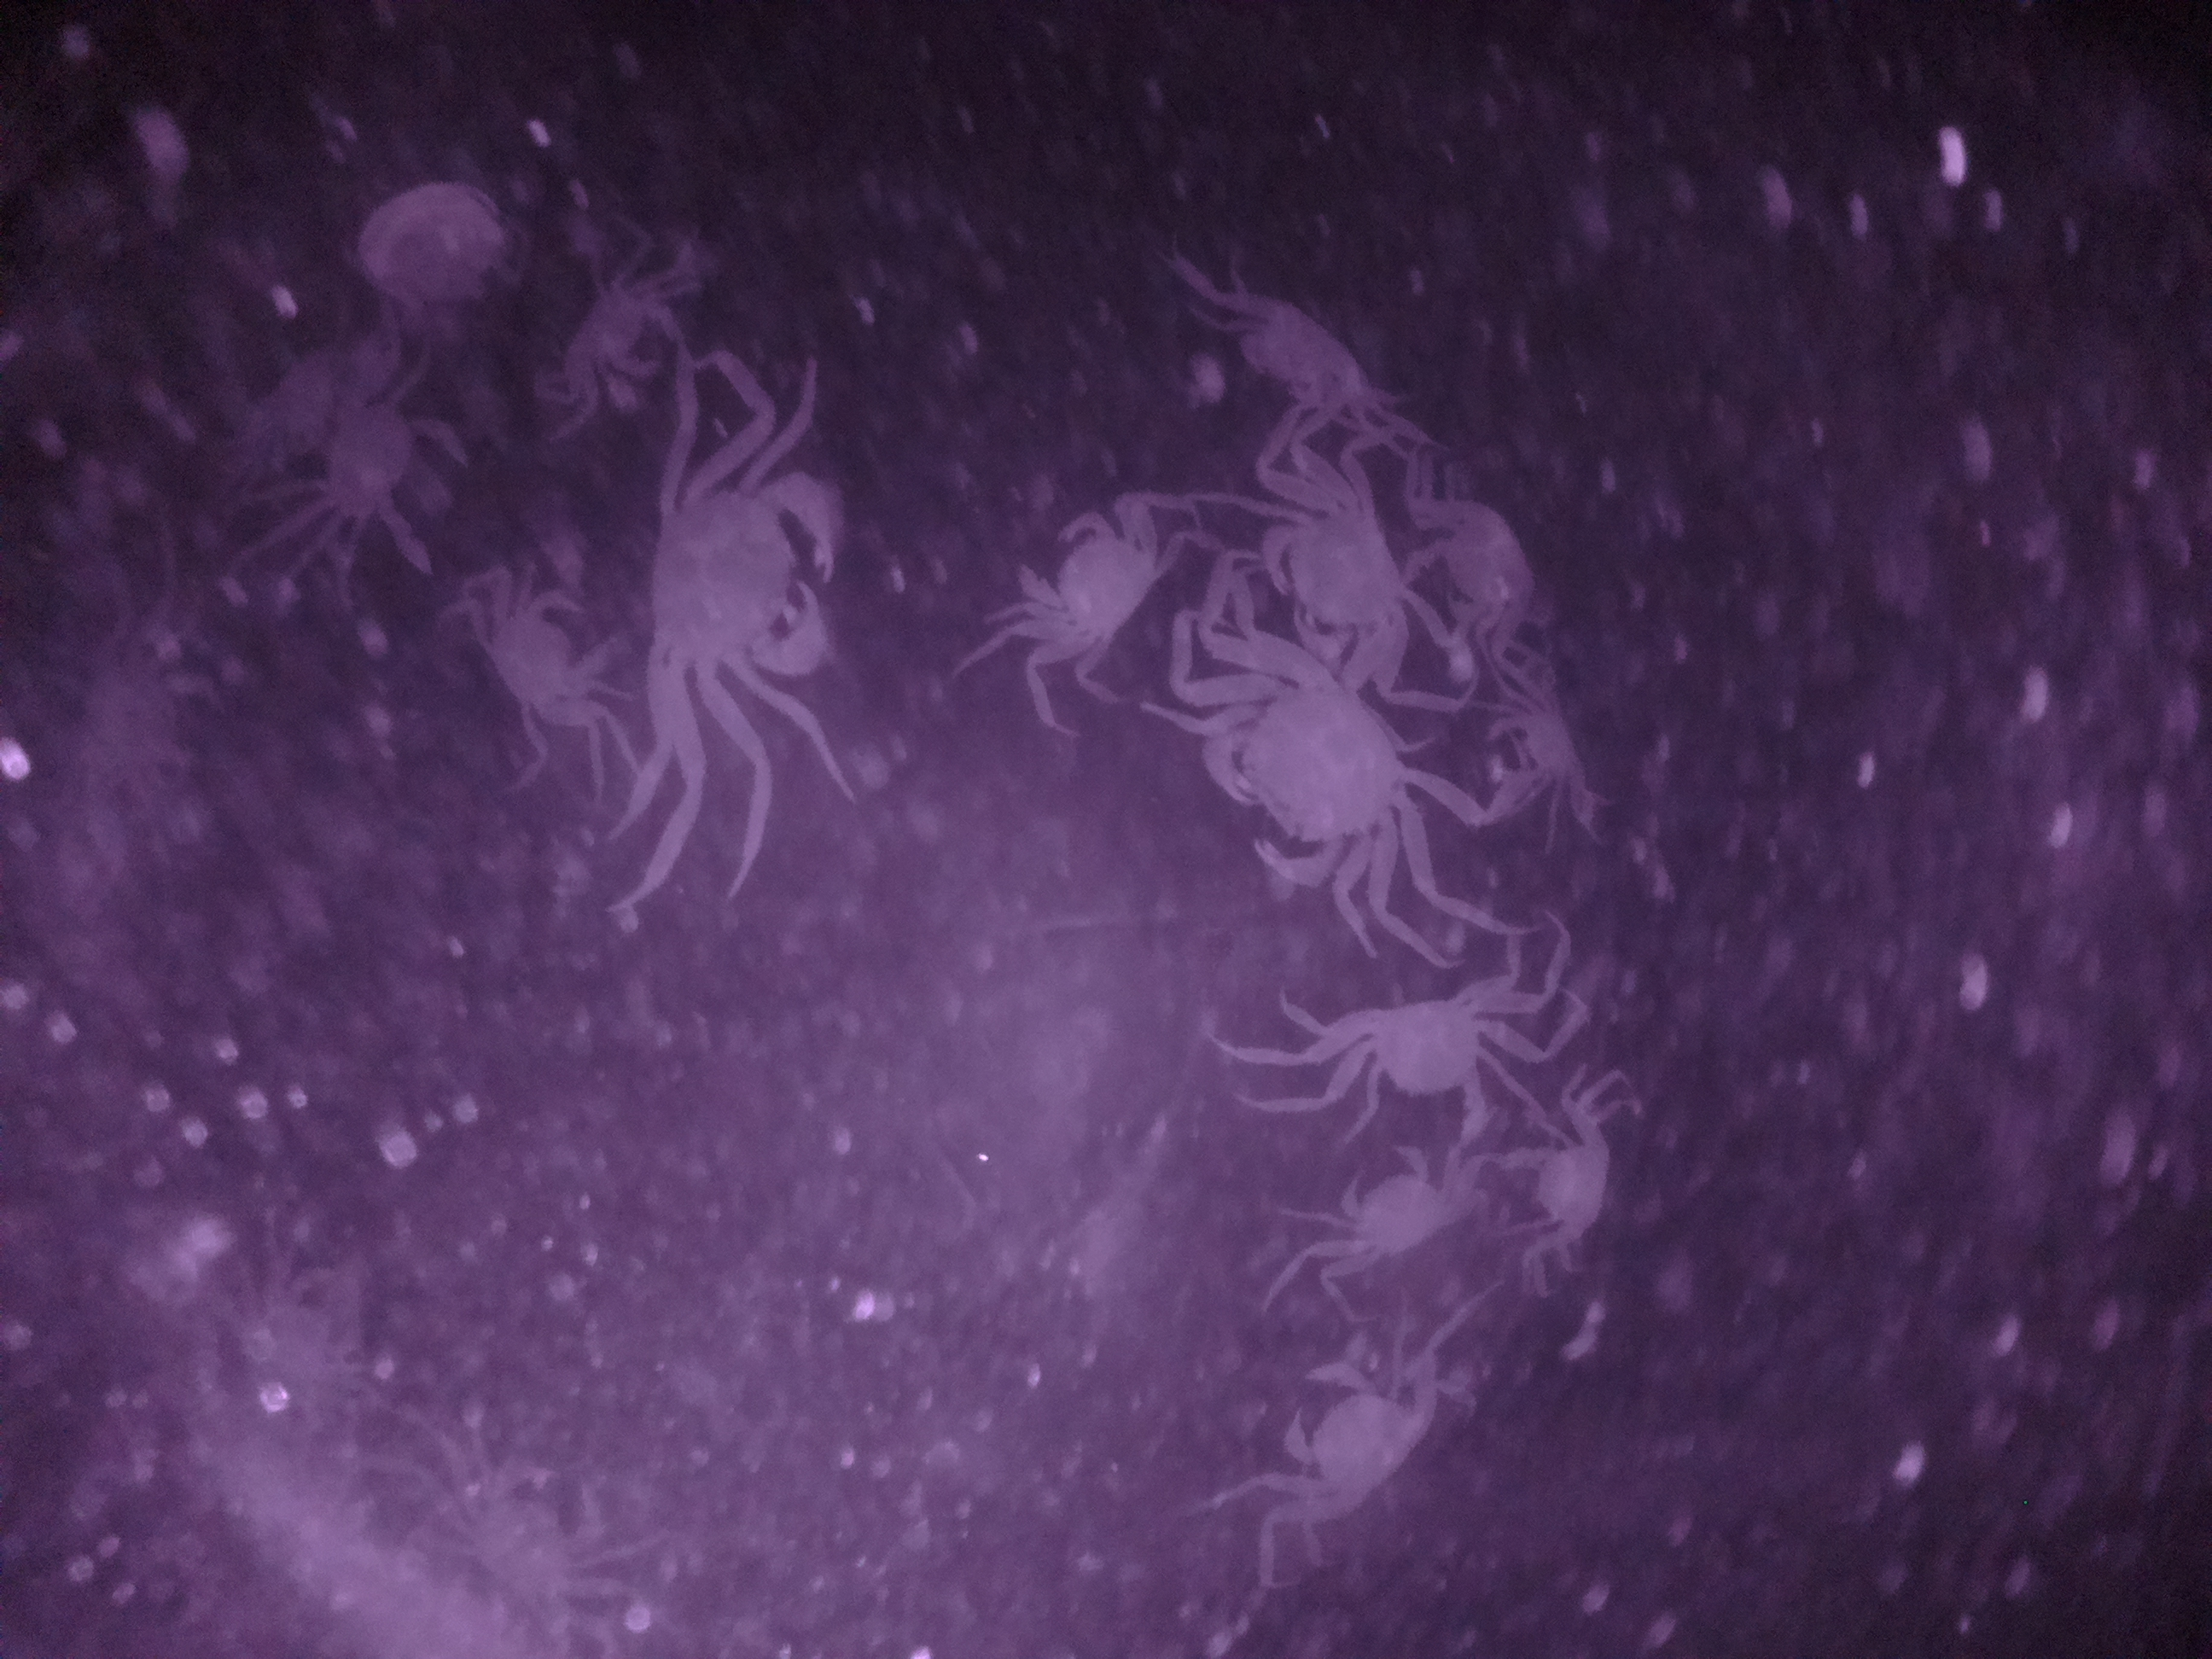Crab: (1188, 626, 1433, 904), (631, 441, 859, 697), (1251, 1345, 1449, 1534), (1324, 974, 1521, 1145), (1007, 477, 1177, 662), (1251, 488, 1416, 671), (475, 582, 617, 739), (1322, 1138, 1463, 1283), (1226, 291, 1372, 415), (1503, 1117, 1622, 1265), (1480, 676, 1604, 803)
